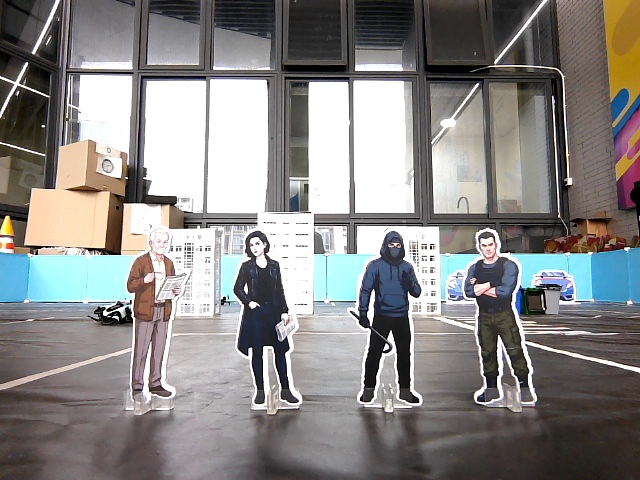community_person: (228, 225, 307, 423), (120, 222, 193, 417)
outsider: (457, 219, 546, 420), (345, 221, 433, 420)
